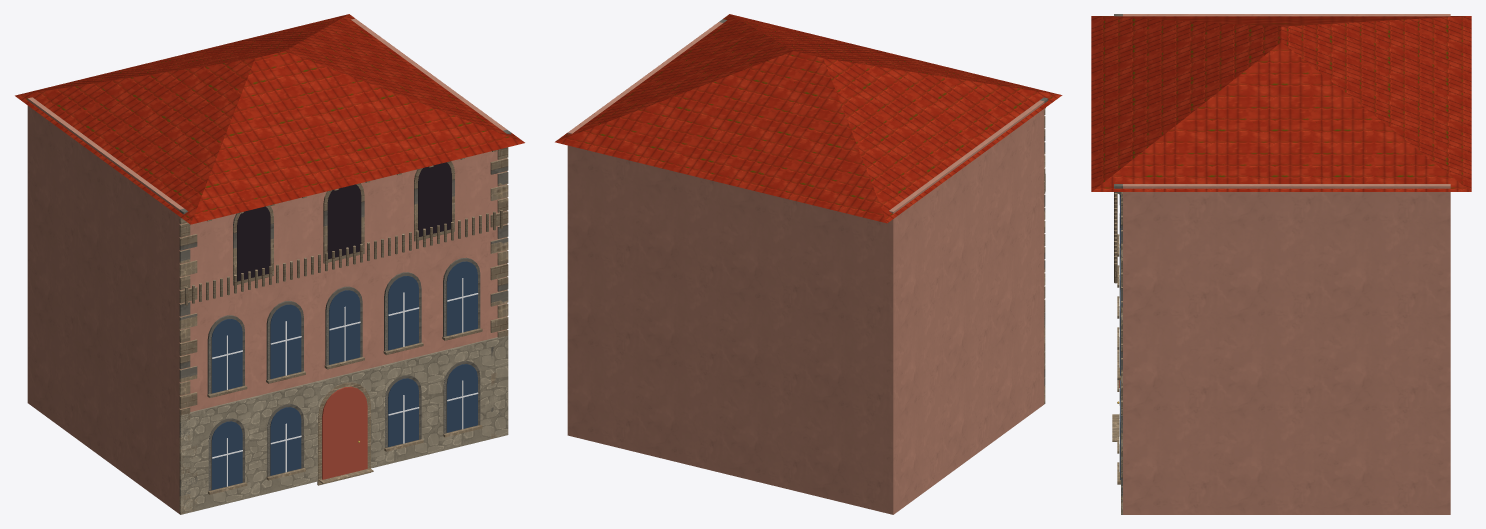
File: palacete_w12_1.gltf
The picture shows the model from 3 angles, left to right: view 1: azimuth 30°, elevation 25°; view 2: azimuth 150°, elevation 25°; view 3: azimuth 270°, elevation 25°; orthographic projection. The views are drawn at different scales.
Visible parts, largest first — view 1: palacete_w12_1; view 2: palacete_w12_1; view 3: palacete_w12_1.
Part boxes in pixels (<box>): palacete_w12_1: <box>15,14,524,514</box>; palacete_w12_1: <box>555,14,1062,514</box>; palacete_w12_1: <box>1091,14,1471,514</box>.
Size of what is drawn, in the model's own units: 11.96 by 12.62 by 10.9.
7 materials, 4 textured.
